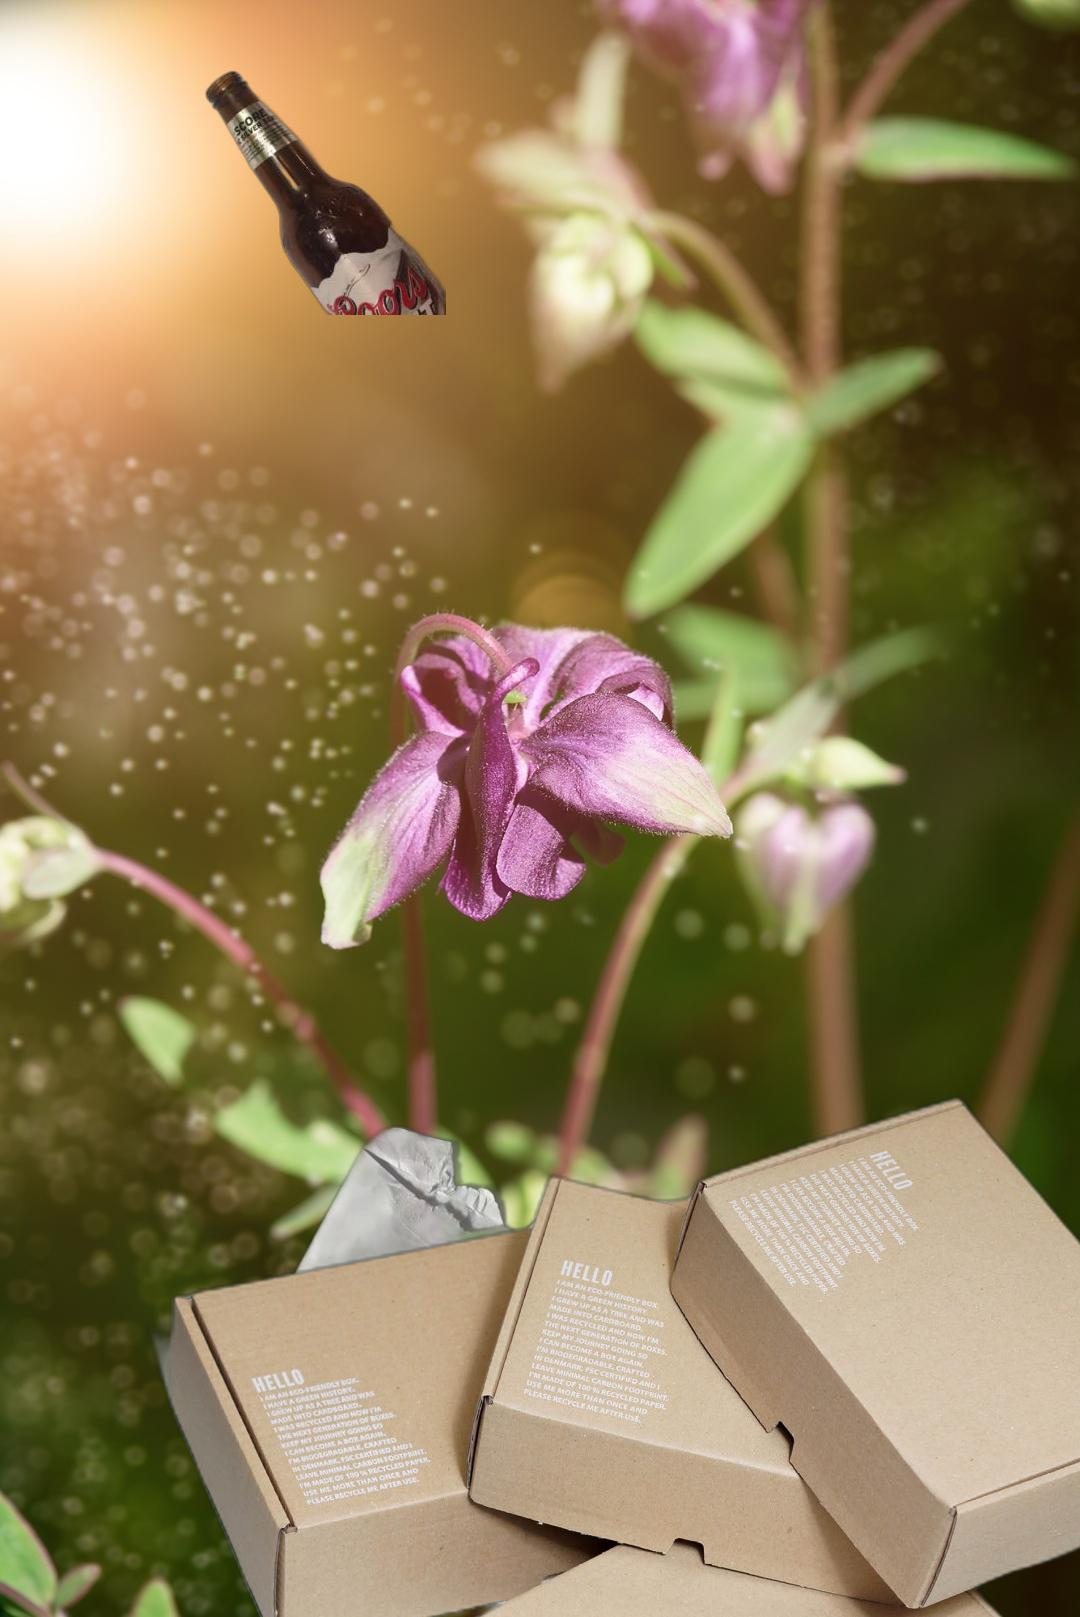glass: (201, 69, 446, 314)
paper: (240, 1121, 739, 1469)
shoes: (1078, 218, 1080, 316)
trashbox-cardboard: (145, 1088, 1080, 1617)
